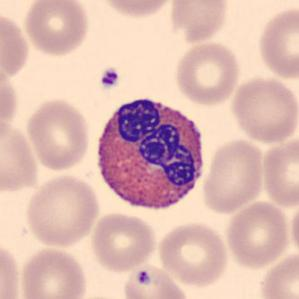Eosinophil: (90, 89, 211, 220)
Platelets: (98, 65, 121, 91), (131, 268, 158, 287)
RBC: (22, 172, 102, 249), (23, 96, 92, 174), (200, 137, 267, 216), (155, 219, 230, 288), (222, 198, 292, 270), (228, 74, 298, 145), (171, 40, 242, 107), (88, 210, 158, 274), (20, 0, 91, 57), (18, 245, 89, 299), (255, 4, 298, 82), (0, 117, 40, 196), (259, 135, 299, 209), (166, 0, 231, 44), (121, 261, 190, 299), (0, 10, 32, 81), (257, 249, 299, 299), (0, 61, 20, 145), (96, 0, 177, 20), (0, 237, 23, 298), (288, 199, 299, 260), (66, 293, 132, 299)
